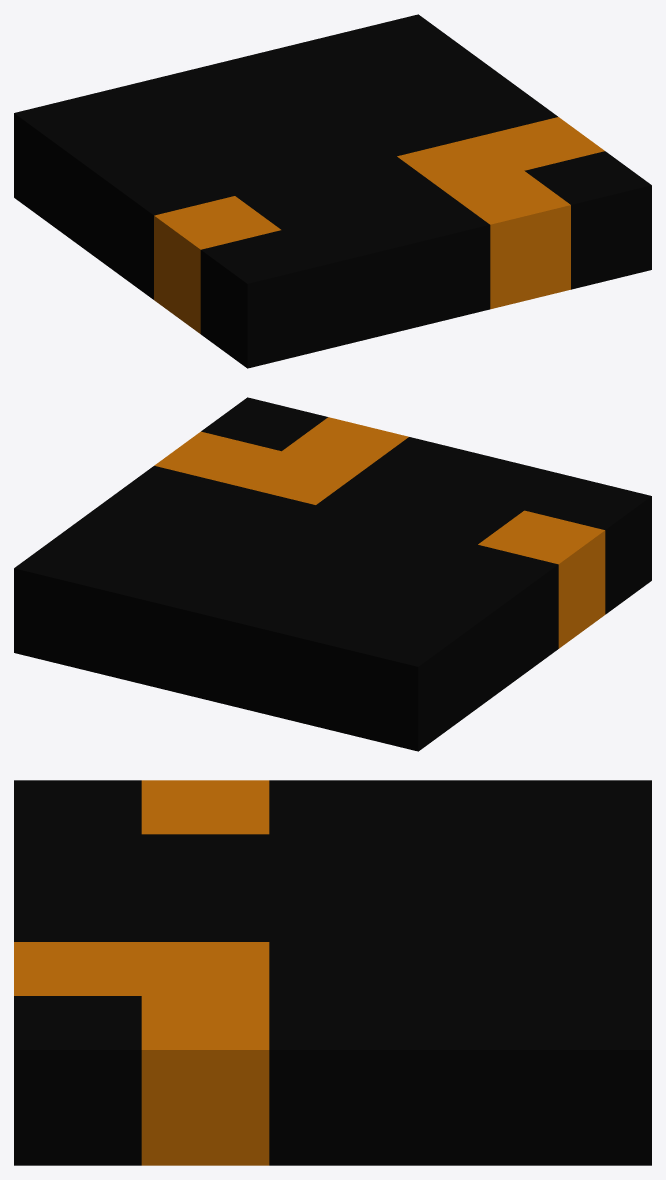
File: CMU3DWornCMTarbackCigarMask.glb
3 views of the same model, one above another, from view 1: azimuth 30°, elevation 25°; view 2: azimuth 150°, elevation 25°; view 3: azimuth 270°, elevation 25° (orthographic). The views are drawn at different scales.
Parts seen in each view (by area): view 1: source volume 3, source volume 1, source volume 5, source volume 6, source volume 2, source volume 4, source volume 7; view 2: source volume 3, source volume 1, source volume 2, source volume 4, source volume 5, source volume 7, source volume 6; view 3: source volume 3, source volume 7, source volume 6, source volume 1, source volume 4, source volume 5, source volume 2.
Boxes of the visible parts, x1,y1,x2,y2 form: source volume 3: [14, 14, 557, 299]; source volume 1: [200, 190, 490, 368]; source volume 5: [397, 136, 570, 309]; source volume 6: [524, 151, 651, 289]; source volume 2: [154, 196, 280, 333]; source volume 4: [235, 156, 442, 229]; source volume 7: [478, 117, 604, 170]; source volume 3: [14, 465, 558, 751]; source volume 1: [363, 437, 651, 614]; source volume 2: [478, 510, 605, 648]; source volume 4: [316, 471, 523, 544]; source volume 5: [235, 417, 408, 504]; source volume 7: [154, 431, 281, 485]; source volume 6: [201, 397, 327, 451]; source volume 3: [269, 780, 651, 1165]; source volume 7: [141, 996, 269, 1165]; source volume 6: [14, 996, 141, 1165]; source volume 1: [14, 780, 141, 941]; source volume 4: [141, 834, 269, 941]; source volume 5: [14, 942, 269, 995]; source volume 2: [141, 780, 269, 834].
Size of the model in its own units: 0.25 by 0.05 by 0.25.
